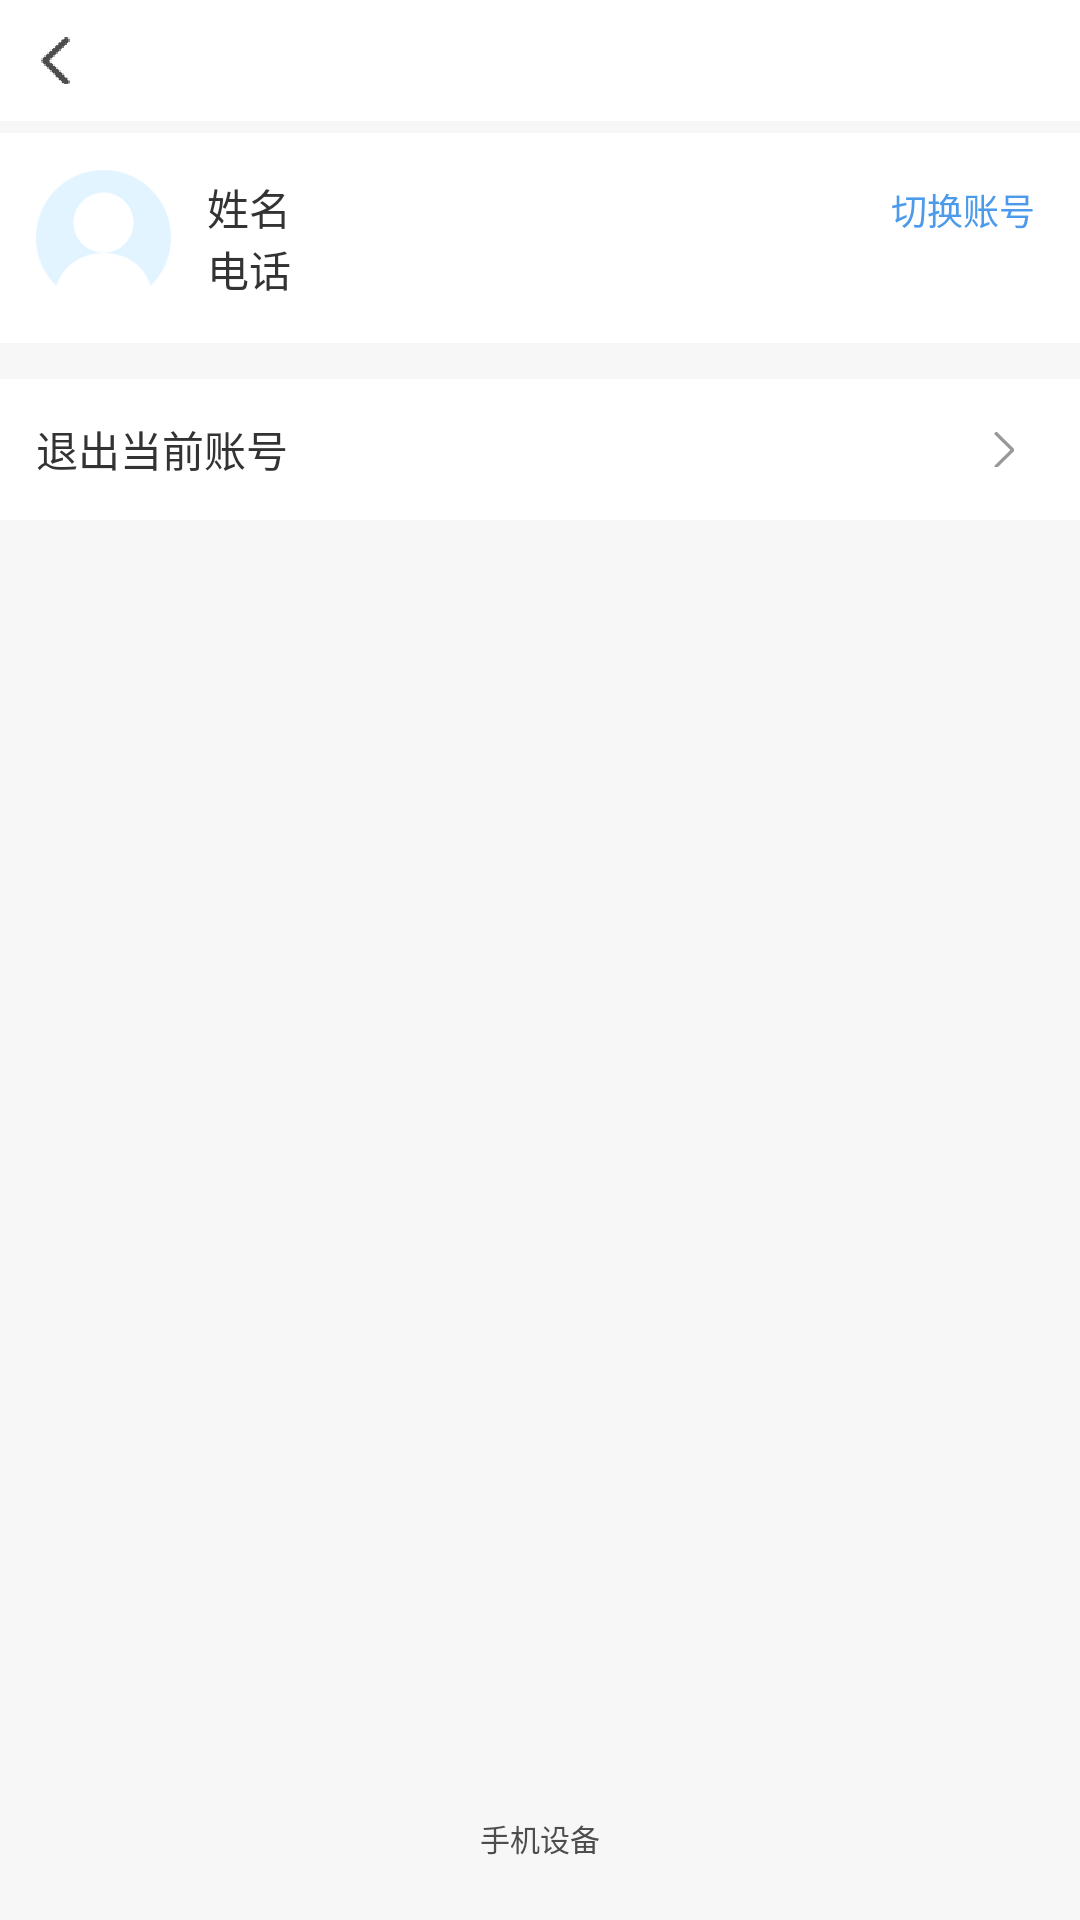

Icons on this 1080x1920 Android screen, each with its box as region(x1, y1, x2, y2):
jiant: region(41, 37, 70, 84)
toux: region(36, 170, 171, 284)
